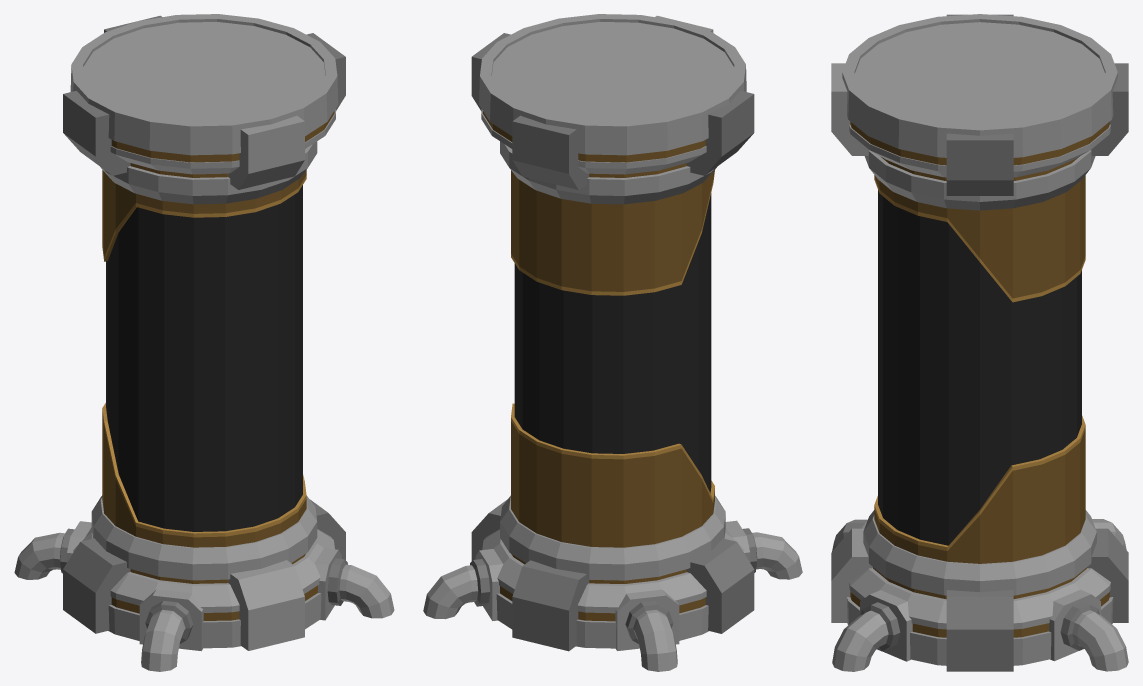
File: Props_Pod.glb
The picture shows the model from 3 angles, left to right: view 1: azimuth 30°, elevation 25°; view 2: azimuth 150°, elevation 25°; view 3: azimuth 270°, elevation 25°; orthographic projection. The views are drawn at different scales.
Parts seen in each view (by area): view 1: Props_Pod; view 2: Props_Pod; view 3: Props_Pod.
Part boxes in pixels (x1,y1,x2,y2): Props_Pod: (14,14,394,671); Props_Pod: (423,14,802,671); Props_Pod: (831,14,1128,671).
Size of the model in its own units: 1.81 by 3.61 by 1.81.
